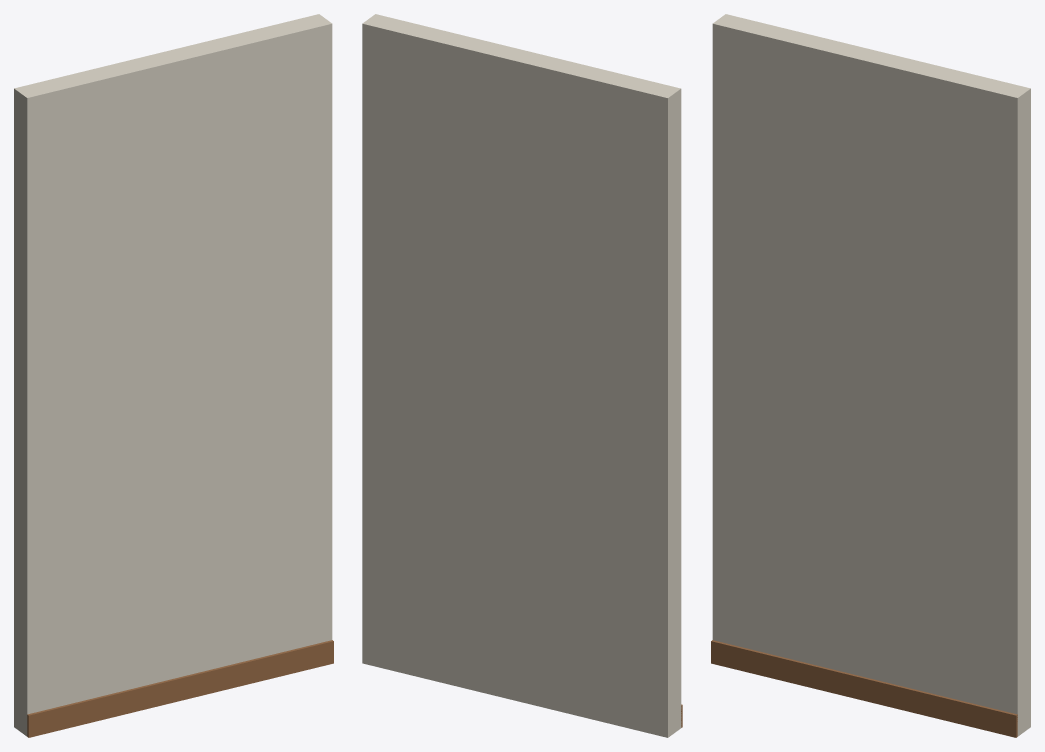
The model's file is Wall_Straight_4x8.fbx.
3 views of the same model, side by side, from view 1: azimuth 30°, elevation 25°; view 2: azimuth 150°, elevation 25°; view 3: azimuth 330°, elevation 25° (orthographic).
Parts seen in each view (by area): view 1: Wall_Straight_4x8; view 2: Wall_Straight_4x8; view 3: Wall_Straight_4x8.
Boxes of the visible parts, x1,y1,x2,y2 form: Wall_Straight_4x8: (14, 14, 333, 737); Wall_Straight_4x8: (362, 14, 682, 737); Wall_Straight_4x8: (711, 14, 1030, 737).
Bounding box in the file's own units: 400 × 800 × 33.5.
